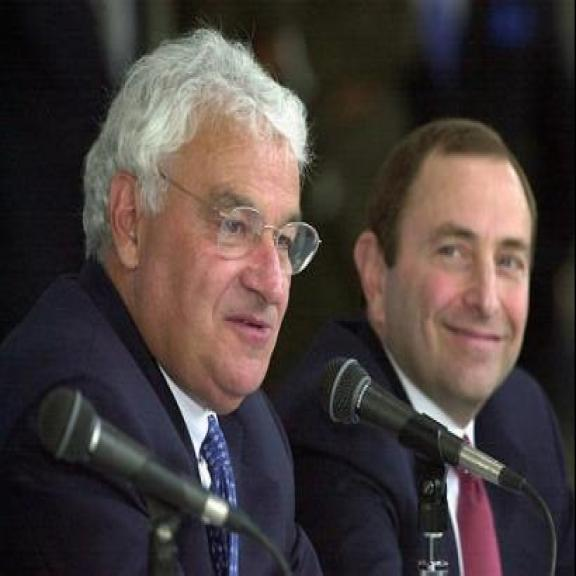face: (109, 103, 304, 406), (353, 160, 533, 407)
